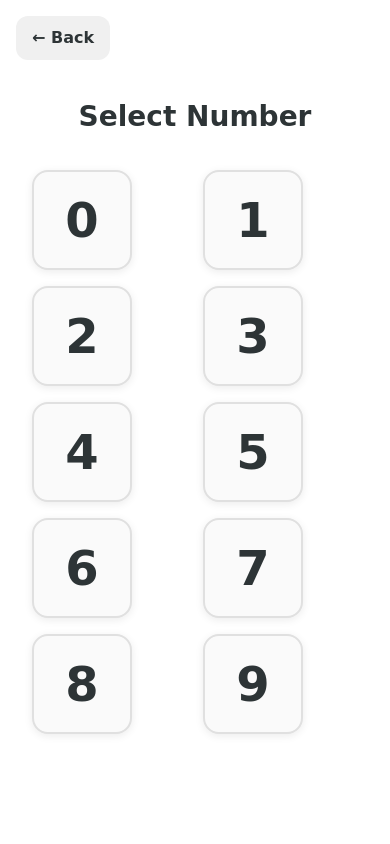
Test: Navigation Flow Integration › should navigate back to character selection when Back is clicked
Check: the heading "Select Number" is shown, box [79, 100, 312, 133]
Step 1. Click the button "0" → x=82, y=220, box [32, 170, 132, 270]
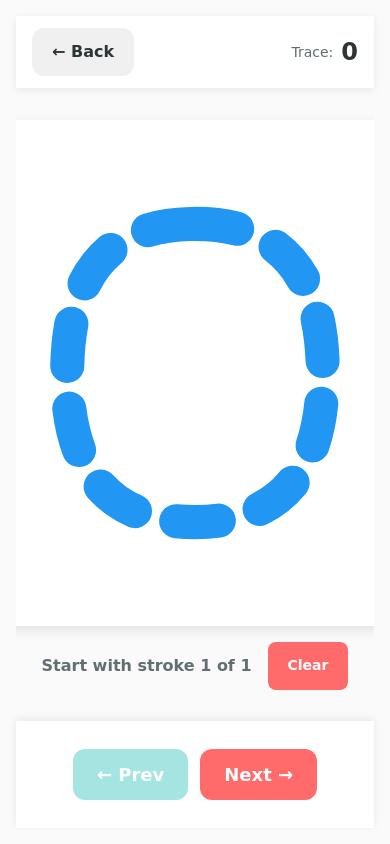
Check: the text "Trace:" is shown, box [291, 42, 333, 62]
Click Back button in tracing header
Step 2. Click the button "← Back" → x=83, y=52, box [32, 28, 134, 76]
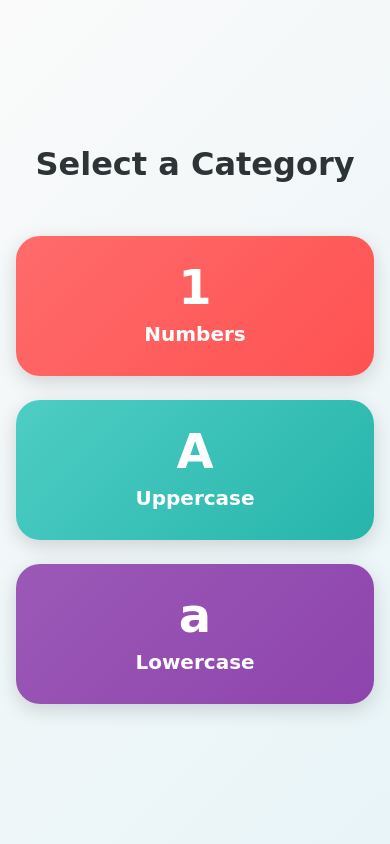
Check: the heading "Select a Category" is shown, box [35, 140, 355, 188]
